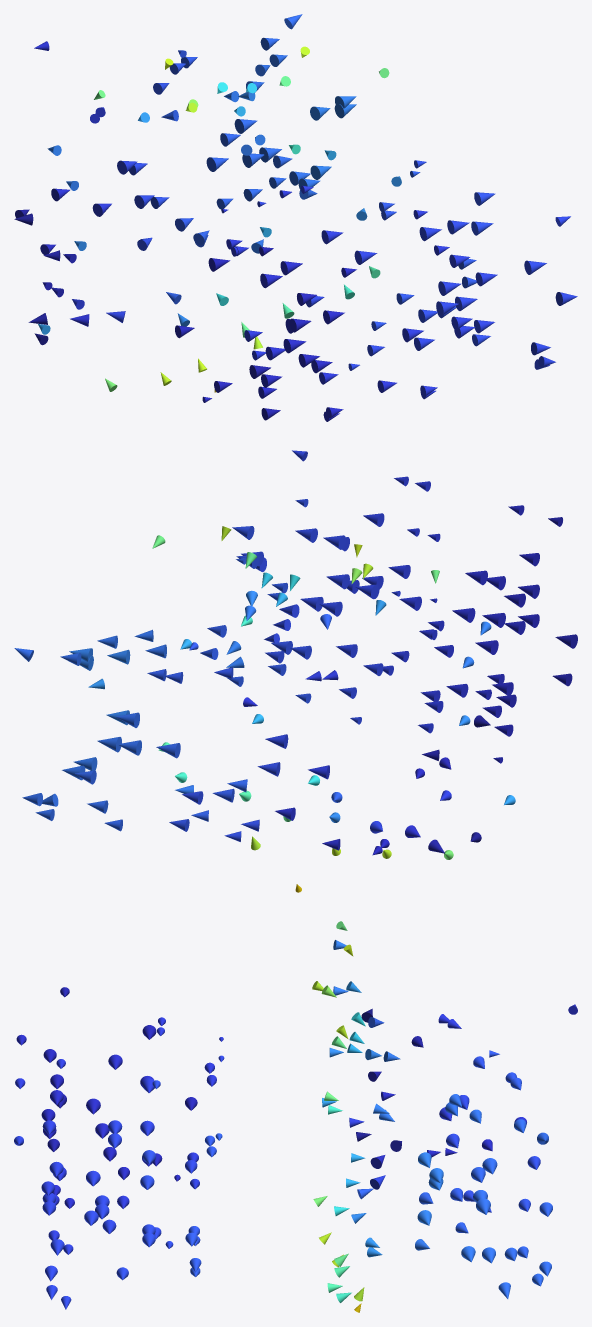
Rendered from LineasCorrienteN2-H2O_mh2-8.20_V-1.glb.
The picture shows the model from 3 angles, top to bottom: view 1: azimuth 30°, elevation 25°; view 2: azimuth 150°, elevation 25°; view 3: azimuth 270°, elevation 25°; orthographic projection. The views are drawn at different scales.
Bounding box in the file's own units: 0.000989 × 0.000822 × 0.00123.
Materials: 2 (2 with a texture image).
